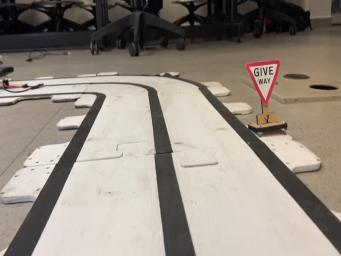give_way: (246, 60, 287, 136), (246, 60, 287, 136), (246, 60, 287, 136)
street: (4, 73, 341, 256), (4, 73, 341, 256), (4, 73, 341, 256)
